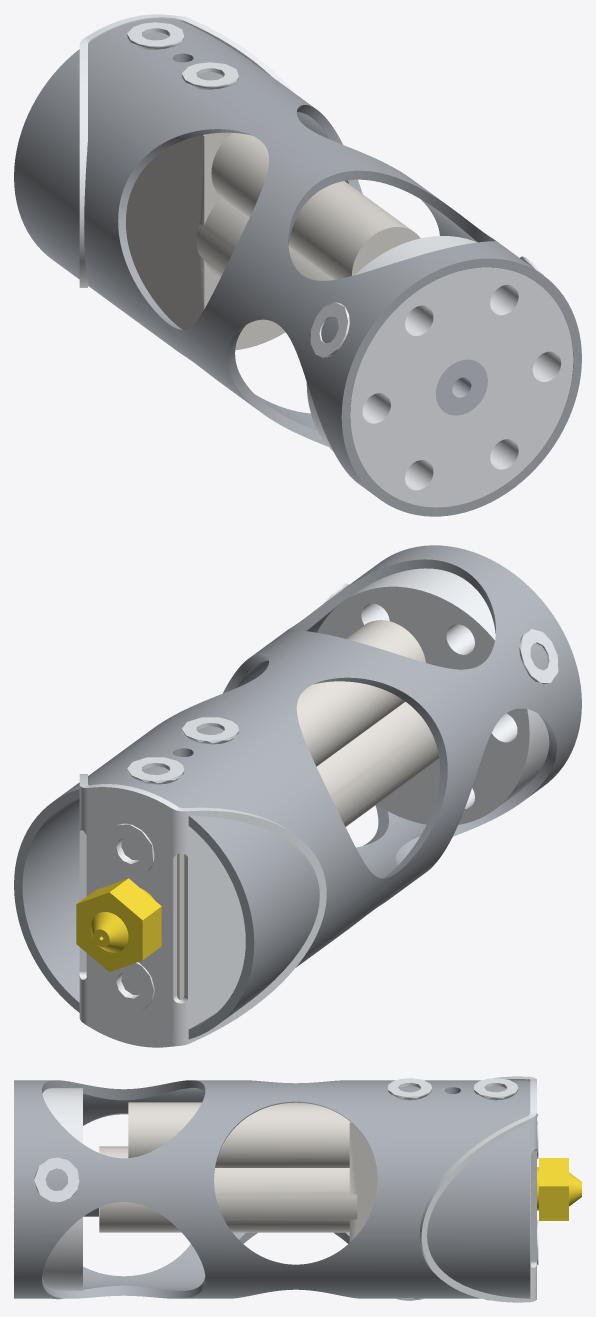
The picture shows the model from 3 angles, top to bottom: view 1: azimuth 30°, elevation 25°; view 2: azimuth 150°, elevation 25°; view 3: azimuth 270°, elevation 25°; orthographic projection. The views are drawn at different scales.
Visible parts, largest first — view 1: ti_monocoque_shell, conduction_heatsink, copper_melt_core, heat_shield, chalice_heatbreak, torx_screw_1, torx_screw_3, torx_screw_5; view 2: ti_monocoque_shell, heat_shield, conduction_heatsink, copper_melt_core, e3d_v6_nozzle, torx_screw_7, torx_screw_8, torx_screw_1, torx_screw_5, torx_screw_3; view 3: ti_monocoque_shell, copper_melt_core, heat_shield, conduction_heatsink, e3d_v6_nozzle, torx_screw_0, torx_screw_5, torx_screw_3.
Part boxes in pixels (x1=…): ti_monocoque_shell: x1=14, y1=18, x2=581, y2=516; conduction_heatsink: x1=306, y1=236, x2=573, y2=507; copper_melt_core: x1=126, y1=132, x2=420, y2=350; heat_shield: x1=79, y1=14, x2=293, y2=287; chalice_heatbreak: x1=436, y1=359, x2=487, y2=415; torx_screw_1: x1=310, y1=302, x2=349, y2=357; torx_screw_3: x1=181, y1=62, x2=238, y2=89; torx_screw_5: x1=127, y1=22, x2=184, y2=49; ti_monocoque_shell: x1=14, y1=545, x2=581, y2=1039; heat_shield: x1=79, y1=774, x2=326, y2=1047; conduction_heatsink: x1=317, y1=568, x2=549, y2=824; copper_melt_core: x1=109, y1=620, x2=439, y2=999; e3d_v6_nozzle: x1=76, y1=878, x2=161, y2=972; torx_screw_7: x1=104, y1=823, x2=154, y2=877; torx_screw_8: x1=104, y1=962, x2=154, y2=1011; torx_screw_1: x1=519, y1=629, x2=558, y2=684; torx_screw_5: x1=127, y1=757, x2=184, y2=784; torx_screw_3: x1=182, y1=717, x2=238, y2=744; ti_monocoque_shell: x1=14, y1=1080, x2=530, y2=1298; copper_melt_core: x1=99, y1=1102, x2=377, y2=1242; heat_shield: x1=419, y1=1076, x2=536, y2=1302; conduction_heatsink: x1=42, y1=1088, x2=82, y2=1290; e3d_v6_nozzle: x1=537, y1=1158, x2=581, y2=1220; torx_screw_0: x1=34, y1=1157, x2=79, y2=1202; torx_screw_5: x1=473, y1=1078, x2=518, y2=1100; torx_screw_3: x1=387, y1=1078, x2=432, y2=1100.
Size of the model in its own units: 0.0261 by 0.0261 by 0.066.
